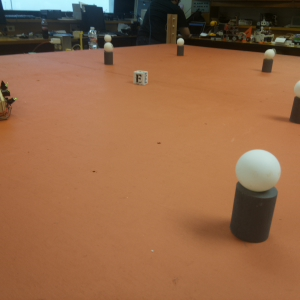blockE: (133, 69, 149, 86)
corner: (167, 14, 176, 46)
obstacle: (230, 150, 281, 247), (288, 82, 300, 126), (262, 51, 277, 74), (103, 43, 115, 65), (176, 38, 184, 55), (104, 35, 112, 41)
side: (1, 78, 18, 123)
